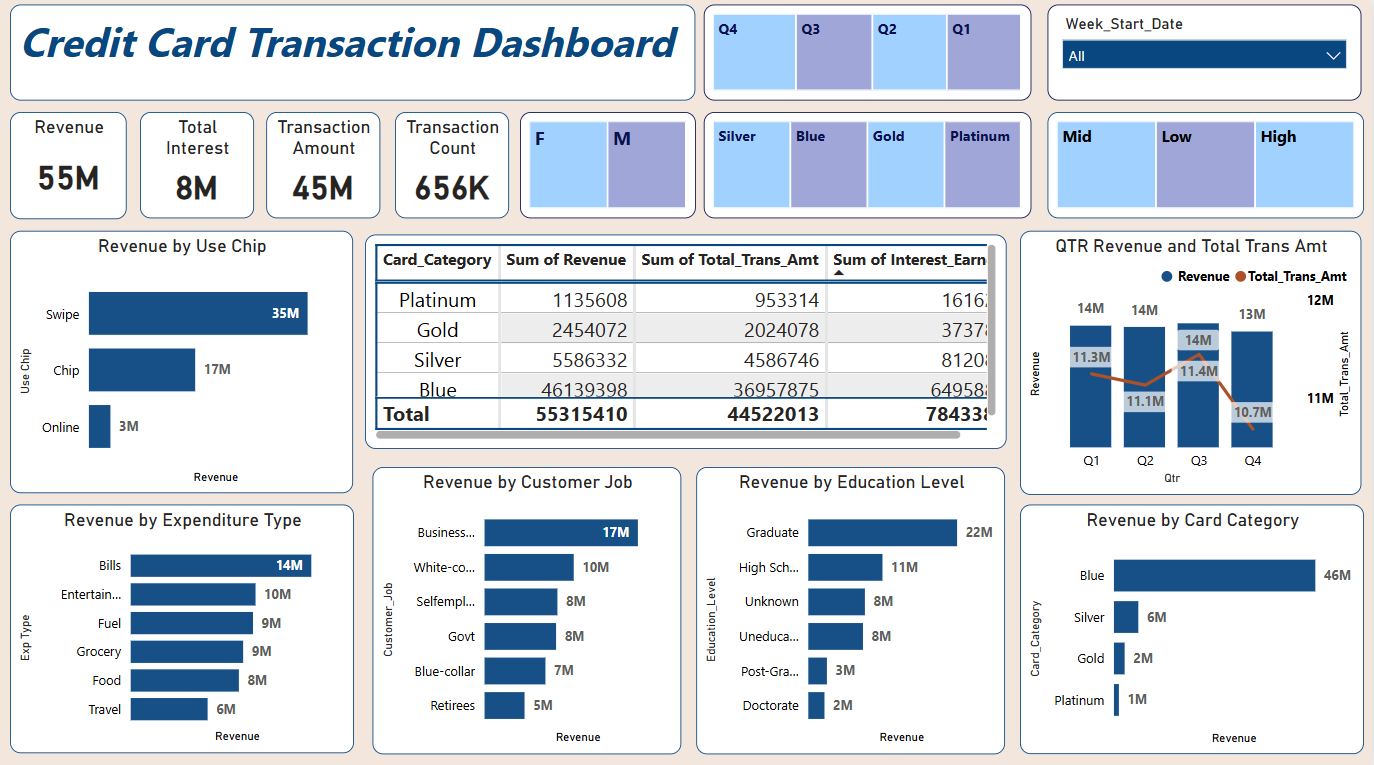

What the dashboard file says about the page in this screenshot:
{"tool":"powerbi","page":{"name":"Cc_Transaction","canvas":[1280,720],"ordinal":0},"visuals":[{"type":"textbox","box":[9.7,7.2,639.4,89.3],"z":0},{"type":"lineStackedColumnComboChart","title":"QTR Revenue and  Total Trans Amt","fields":{"Category":["credit_card.Qtr"],"Y":["Sum(credit_card.Revenue)"],"Y2":["Sum(credit_card.Total_Trans_Amt)"]},"box":[951.9,218.4,318.5,246.1],"z":1000},{"type":"barChart","title":"Revenue by Expenditure Type","fields":{"Category":["credit_card.Exp Type"],"Y":["Sum(credit_card.Revenue)"]},"box":[9.7,472.9,320.9,231.6],"z":2000},{"type":"barChart","title":"Revenue by Education Level","fields":{"Category":["customer.Education_Level"],"Y":["Sum(credit_card.Revenue)"]},"box":[649.1,437.9,288.3,267.8],"z":3000},{"type":"barChart","title":" Revenue by Customer Job","fields":{"Category":["customer.Customer_Job","credit_card.Exp Type"],"Y":["Sum(credit_card.Revenue)"]},"box":[347.4,437.9,288.3,267.8],"z":4000},{"type":"barChart","title":"Revenue by Card Category","fields":{"Category":["credit_card.Card_Category","credit_card.Exp Type"],"Y":["Sum(credit_card.Revenue)"]},"box":[951.9,472.9,320.9,232.8],"z":5000},{"type":"barChart","title":"Revenue by Use Chip","fields":{"Category":["credit_card.Use Chip","credit_card.Exp Type"],"Y":["Sum(credit_card.Revenue)"]},"box":[9.7,218.4,319.7,244.9],"z":6000},{"type":"tableEx","fields":{"Values":["credit_card.Card_Category","Sum(credit_card.Revenue)","Sum(credit_card.Total_Trans_Amt)","Sum(credit_card.Interest_Earned)"]},"box":[340.2,222,598.4,200.3],"z":7000},{"type":"card","title":"Revenue","fields":{"Values":["Sum(credit_card.Revenue)"]},"box":[9.7,107.4,108.6,100.1],"z":8000},{"type":"card","title":"Total Interest","fields":{"Values":["Sum(credit_card.Interest_Earned)"]},"box":[130.3,107.4,106.2,98.9],"z":9000},{"type":"card","title":"Transaction Amount","fields":{"Values":["Sum(credit_card.Total_Trans_Amt)"]},"box":[248.5,107.4,106.2,98.9],"z":10000},{"type":"card","title":"Transaction Count","fields":{"Values":["Sum(credit_card.Total_Trans_Vol)"]},"box":[368,107.4,106.2,98.9],"z":11000},{"type":"slicer","fields":{"Values":["credit_card.Week_Start_Date"]},"box":[977.2,7.2,293.2,89.3],"z":12000},{"type":"treemap","fields":{"Group":["credit_card.Qtr"],"Values":["Avg(credit_card.Client_Num)"]},"box":[656.3,7.2,305.2,89.3],"z":13000},{"type":"treemap","fields":{"Group":["customer.Gender"],"Values":["Avg(credit_card.Client_Num)"]},"box":[485,107.4,164.1,98.9],"z":14000},{"type":"treemap","fields":{"Values":["Avg(credit_card.Client_Num)"],"Group":["credit_card.Card_Category"]},"box":[656.3,107.4,305.2,98.9],"z":15000},{"type":"treemap","fields":{"Group":["customer.IncomeGroup"],"Values":["Avg(credit_card.Client_Num)"]},"box":[977.2,107.4,295.6,98.9],"z":16000}]}

Visuals, with their boxes in screenshot pixels (x1, y1, x2, y2), scaled from the page's 1280x720 canvas onto the 1374x765 screenshot:
textbox: {"left": 10, "top": 8, "right": 697, "bottom": 103}
"QTR Revenue and  Total Trans Amt" lineStackedColumnComboChart: {"left": 1022, "top": 232, "right": 1364, "bottom": 494}
"Revenue by Expenditure Type" barChart: {"left": 10, "top": 502, "right": 355, "bottom": 749}
"Revenue by Education Level" barChart: {"left": 697, "top": 465, "right": 1006, "bottom": 750}
" Revenue by Customer Job" barChart: {"left": 373, "top": 465, "right": 682, "bottom": 750}
"Revenue by Card Category" barChart: {"left": 1022, "top": 502, "right": 1366, "bottom": 750}
"Revenue by Use Chip" barChart: {"left": 10, "top": 232, "right": 354, "bottom": 492}
tableEx - credit_card.Card_Category x Sum(credit_card.Revenue): {"left": 365, "top": 236, "right": 1008, "bottom": 449}
"Revenue" card: {"left": 10, "top": 114, "right": 127, "bottom": 220}
"Total Interest" card: {"left": 140, "top": 114, "right": 254, "bottom": 219}
"Transaction Amount" card: {"left": 267, "top": 114, "right": 381, "bottom": 219}
"Transaction Count" card: {"left": 395, "top": 114, "right": 509, "bottom": 219}
slicer - credit_card.Week_Start_Date: {"left": 1049, "top": 8, "right": 1364, "bottom": 103}
treemap - credit_card.Qtr x Avg(credit_card.Client_Num): {"left": 704, "top": 8, "right": 1032, "bottom": 103}
treemap - customer.Gender x Avg(credit_card.Client_Num): {"left": 521, "top": 114, "right": 697, "bottom": 219}
treemap - Avg(credit_card.Client_Num) x credit_card.Card_Category: {"left": 704, "top": 114, "right": 1032, "bottom": 219}
treemap - customer.IncomeGroup x Avg(credit_card.Client_Num): {"left": 1049, "top": 114, "right": 1366, "bottom": 219}
